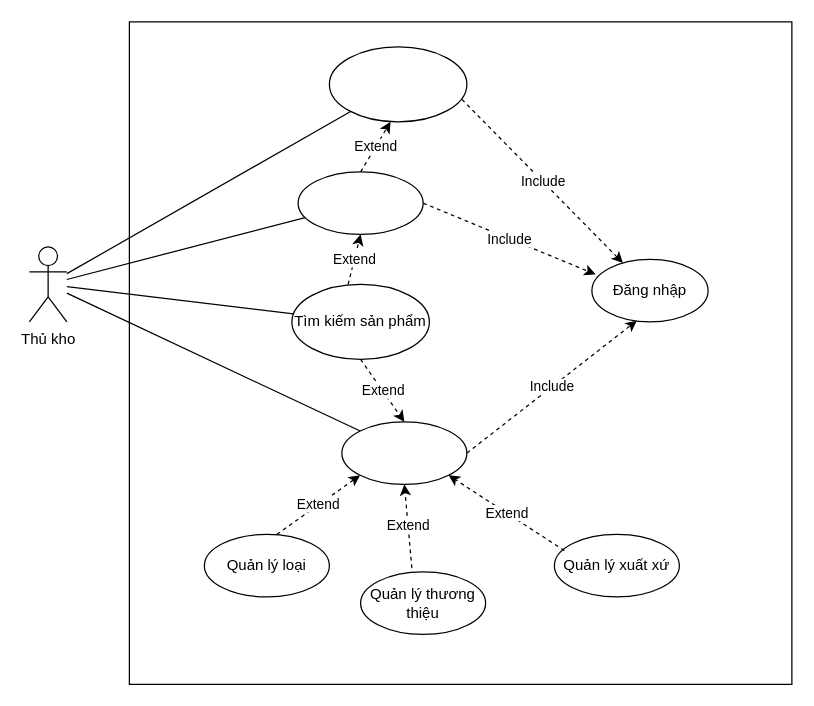
The diagram is 814 pixels wide and 706 high, and some of its shapes have lost their labels. Each missing label, with the centre of its shape:
"Báo cáo sản phẩm" goes at (360,202).
"Quản lý hàng hóa" goes at (404,452).
"Xem hàng tồn kho" goes at (397,84).
